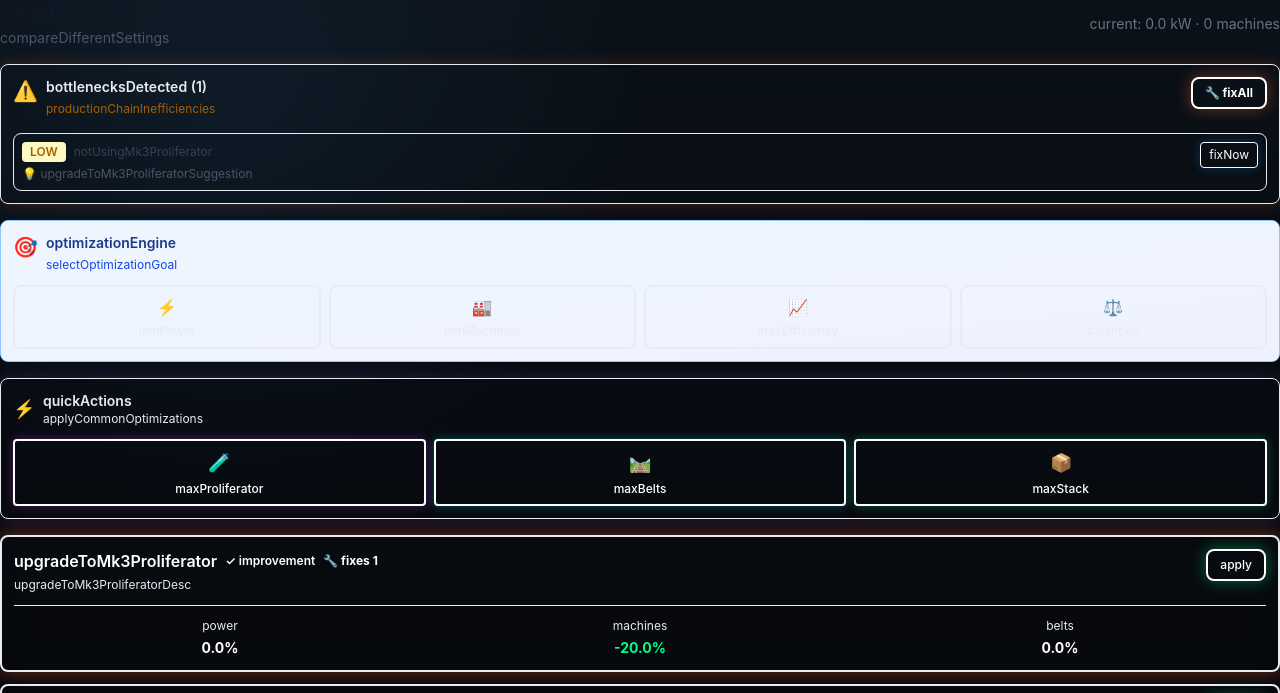
Scenario: WhatIfSimulator › 最適化目標の選択が動作する
# パワー最適化ボタンをクリック
What coordinates should you click on to do the following:
click the button "⚡ minPower"
I would click on:
 (167, 317)
Its box is [13,285,320,349].
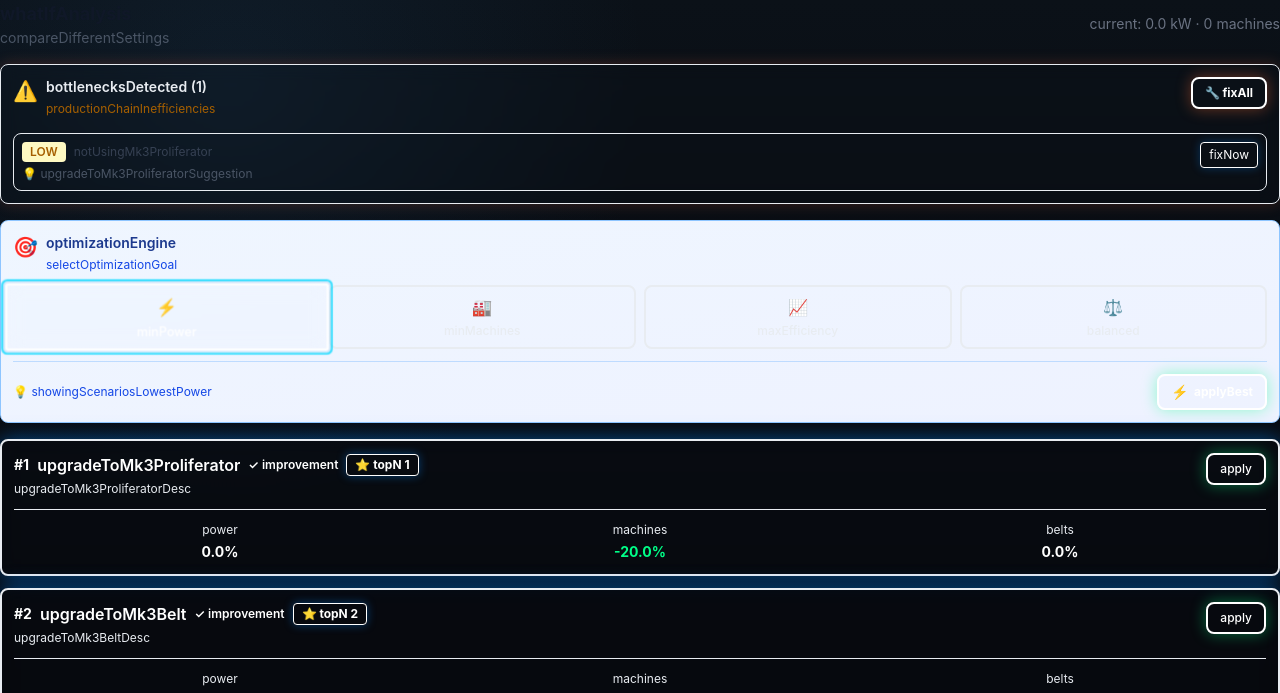
Check: the text "💡 showingScenariosLowestPower" is shown, box [13,384,212,399]
